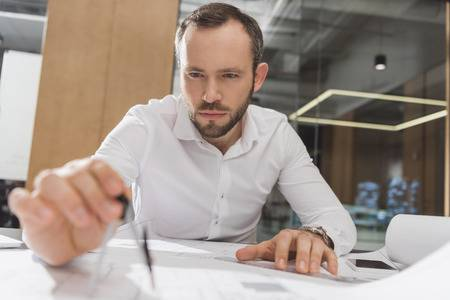S_shirt: (93, 94, 356, 256)
